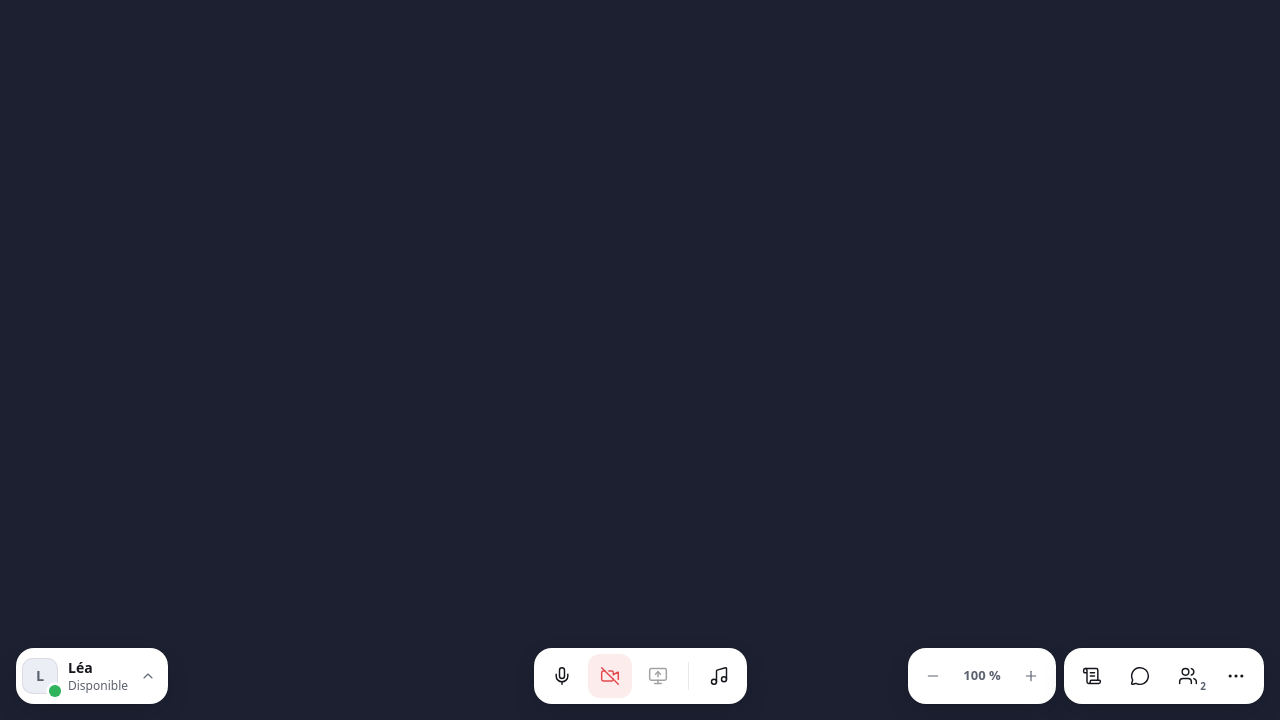
le panneau Personnes › fermé au départ ; le bouton l'ouvre et le ferme, et le dit (aria-expanded, aria-controls)
Click the button named "Personnes" at point(1188, 676), box x1=1166 y1=654 x2=1210 y2=698
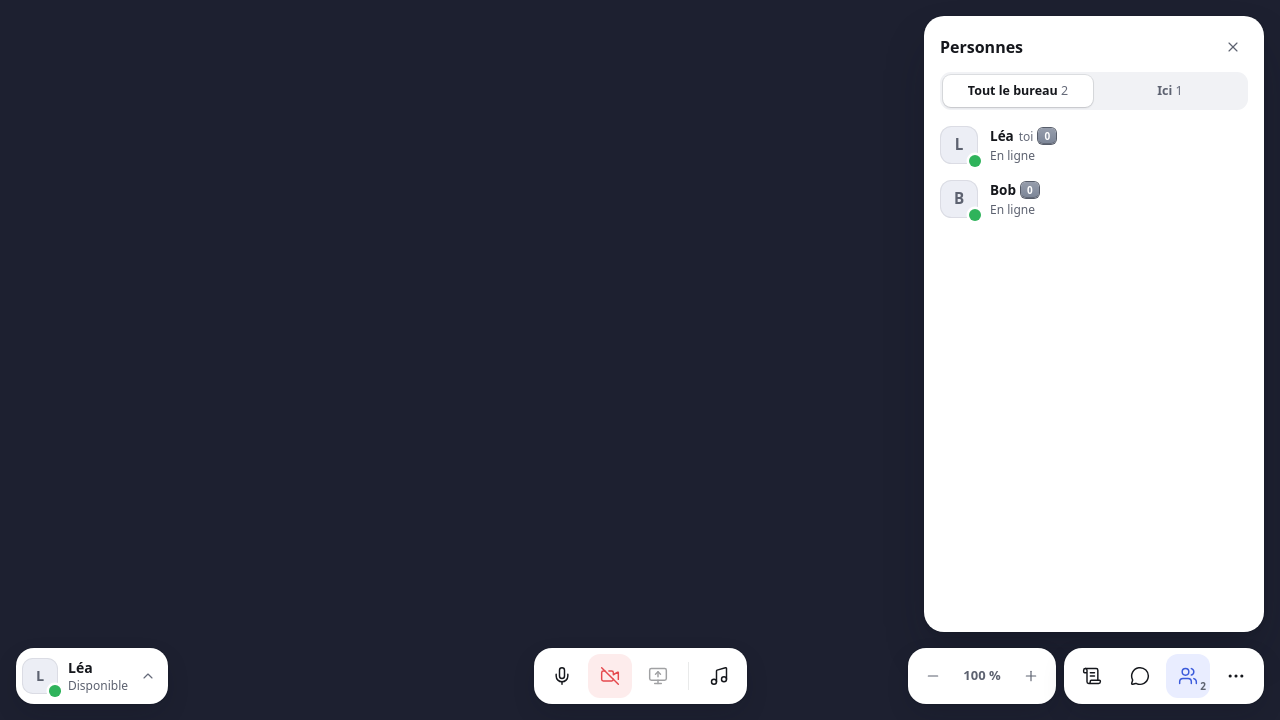
Now the button named "Personnes" is expanded
Click the button named "Personnes" at point(1188, 676), box x1=1166 y1=654 x2=1210 y2=698
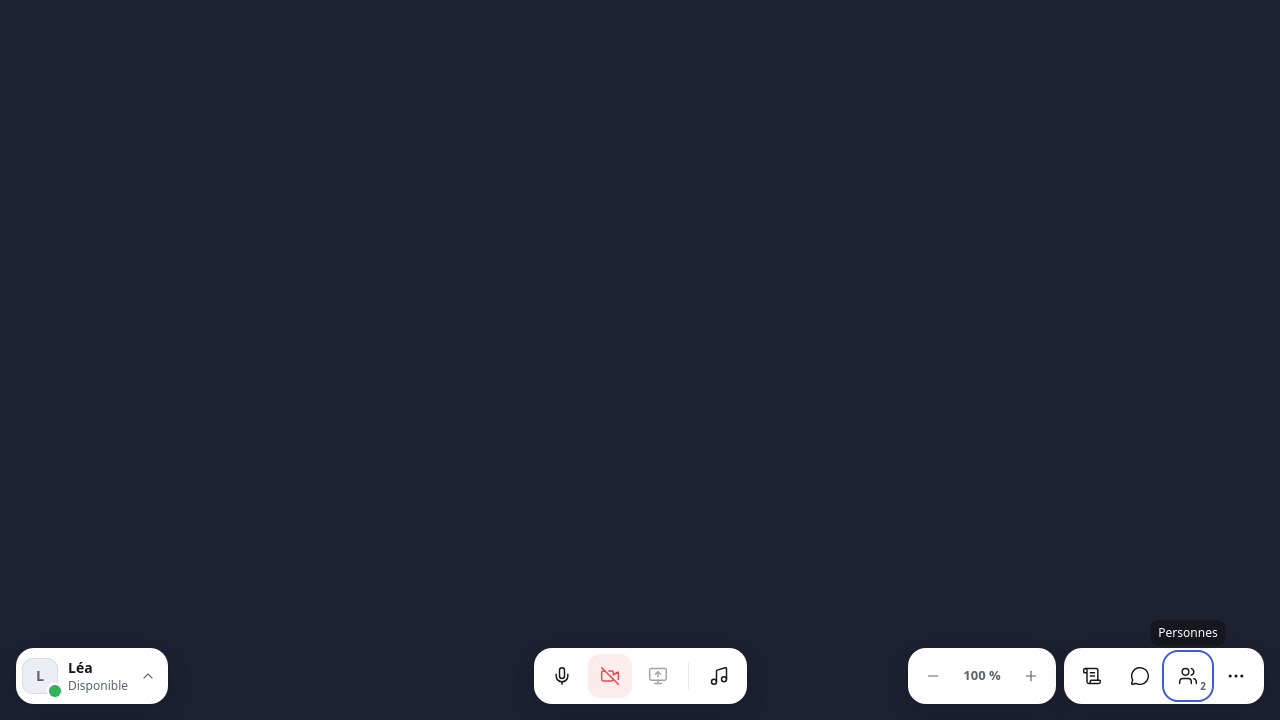
Now the button "2 Personnes" is collapsed, box x1=1166 y1=654 x2=1210 y2=698
